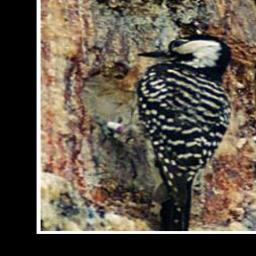Woodpecker: (87, 27, 241, 233)
